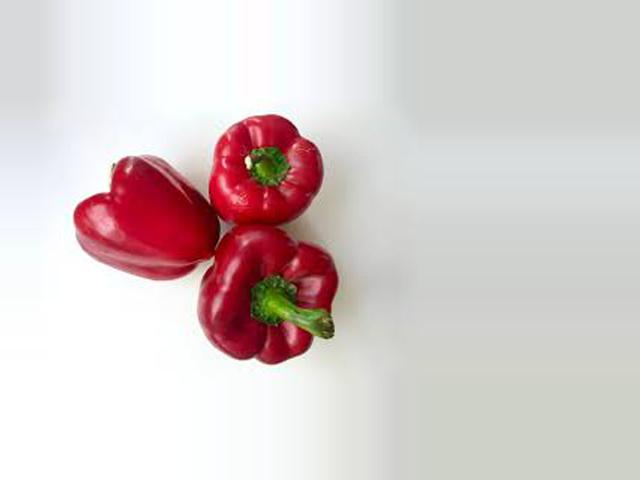bell_pepper: (54, 130, 221, 290)
